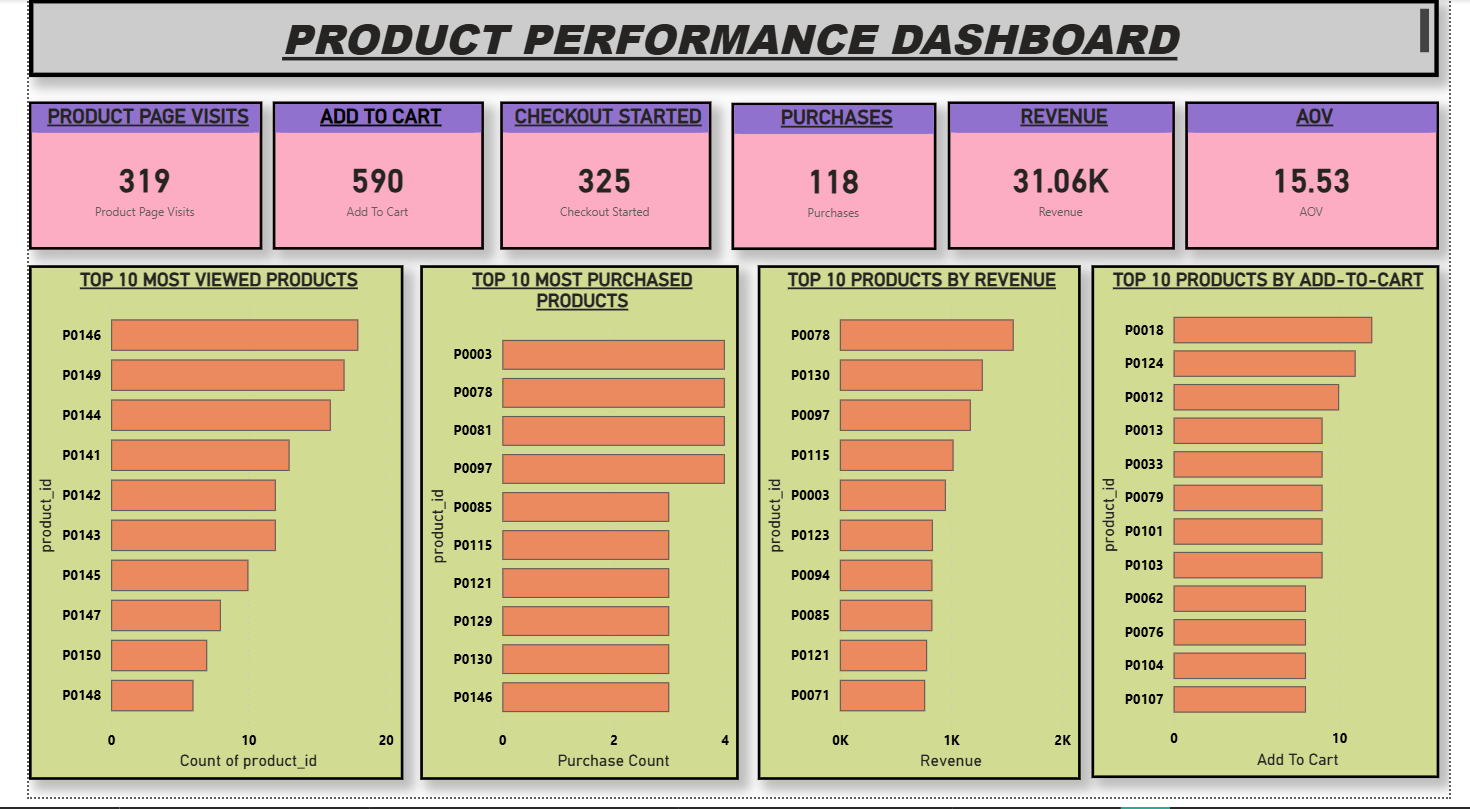

What the dashboard file says about the page in this screenshot:
{"tool":"powerbi","page":{"name":"Product Performance Dashboard","canvas":[1280,720],"ordinal":2},"visuals":[{"type":"textbox","box":[0,0,1271.2,70],"z":0},{"type":"card","title":"PRODUCT PAGE VISITS","fields":{"Values":["clickstream_dataset.Product Page Visits"]},"box":[0,92.5,210,133.8],"z":1000},{"type":"card","title":"ADD TO CART","fields":{"Values":["clickstream_dataset.Add To Cart"]},"box":[220,92.5,190,133.8],"z":2000},{"type":"card","title":"CHECKOUT STARTED","fields":{"Values":["clickstream_dataset.Checkout Started"]},"box":[425,92.5,190,133.8],"z":3000},{"type":"card","title":"PURCHASES","fields":{"Values":["clickstream_dataset.Purchases"]},"box":[633.8,93.8,185,132.5],"z":4000},{"type":"card","title":"REVENUE","fields":{"Values":["clickstream_dataset.Revenue"]},"box":[828.8,92.5,205,133.8],"z":5000},{"type":"card","title":"AOV","fields":{"Values":["clickstream_dataset.AOV"]},"box":[1042.5,92.5,228.8,133.8],"z":6000},{"type":"clusteredBarChart","title":"TOP 10 MOST VIEWED PRODUCTS","fields":{"Category":["Product.product_id"],"Y":["CountNonNull(clickstream_dataset.product_id)"]},"box":[0,240,337.5,463.8],"z":7000},{"type":"clusteredBarChart","title":"TOP 10 MOST PURCHASED PRODUCTS","fields":{"Y":["clickstream_dataset.Purchase Count"],"Category":["Product.product_id"]},"box":[352.5,240,287.5,463.8],"z":8000},{"type":"clusteredBarChart","title":"TOP 10 PRODUCTS BY REVENUE","fields":{"Category":["Product.product_id"],"Y":["clickstream_dataset.Revenue"]},"box":[657.5,240,291.2,463.8],"z":9000},{"type":"clusteredBarChart","title":"TOP 10 PRODUCTS BY ADD-TO-CART","fields":{"Category":["Product.product_id"],"Y":["clickstream_dataset.Add To Cart"]},"box":[957.5,240,313.8,462.5],"z":10000}]}

Visuals, with their boxes in screenshot pixels (x1, y1, x2, y2), scaled from the page's 1280x720 canvas onto the 1470x809 screenshot:
textbox: (x1=0, y1=0, x2=1460, y2=79)
"PRODUCT PAGE VISITS" card: (x1=0, y1=104, x2=241, y2=254)
"ADD TO CART" card: (x1=253, y1=104, x2=471, y2=254)
"CHECKOUT STARTED" card: (x1=488, y1=104, x2=706, y2=254)
"PURCHASES" card: (x1=728, y1=105, x2=940, y2=254)
"REVENUE" card: (x1=952, y1=104, x2=1187, y2=254)
"AOV" card: (x1=1197, y1=104, x2=1460, y2=254)
"TOP 10 MOST VIEWED PRODUCTS" clusteredBarChart: (x1=0, y1=270, x2=388, y2=791)
"TOP 10 MOST PURCHASED PRODUCTS" clusteredBarChart: (x1=405, y1=270, x2=735, y2=791)
"TOP 10 PRODUCTS BY REVENUE" clusteredBarChart: (x1=755, y1=270, x2=1090, y2=791)
"TOP 10 PRODUCTS BY ADD-TO-CART" clusteredBarChart: (x1=1100, y1=270, x2=1460, y2=789)
